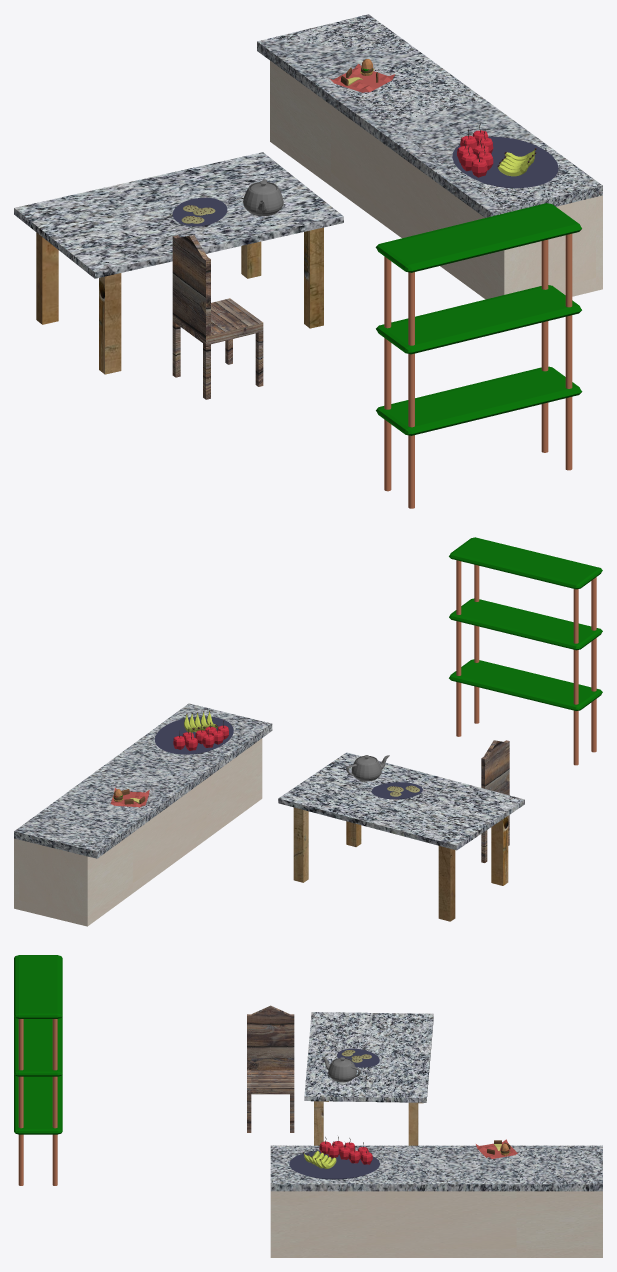
Rendered from Cozinha.fbx.
The picture shows the model from 3 angles, top to bottom: view 1: azimuth 30°, elevation 25°; view 2: azimuth 150°, elevation 25°; view 3: azimuth 270°, elevation 25°; orthographic projection. The views are drawn at different scales.
Parts seen in each view (by area): view 1: Balcao.001, Mesa.001, Cube, Cadeira.001, Bandeija, Maças, Teapot, Lanches, Bandeija.001, Bananas; view 2: Balcao.001, Mesa.001, Cube, Cadeira.001, Bandeija, Maças, Teapot, Lanches, Bandeija.001; view 3: Balcao.001, Mesa.001, Cube, Cadeira.001, Bandeija, Maças, Teapot, Lanches, Bandeija.001.
Part boxes in pixels (x1,y1,x2,y2): Balcao.001: (257,14,602,299); Mesa.001: (14,152,343,374); Cube: (375,203,582,508); Cadeira.001: (172,235,263,399); Bandeija: (452,136,558,188); Maças: (457,124,493,177); Teapot: (243,179,283,216); Lanches: (330,59,395,92); Bandeija.001: (172,197,227,226); Bananas: (497,148,536,176); Balcao.001: (14,703,272,926); Mesa.001: (278,752,524,921); Cube: (449,537,602,765); Cadeira.001: (481,740,509,862); Bandeija: (154,716,233,754); Maças: (173,720,228,750); Teapot: (346,755,389,781); Lanches: (110,788,149,807); Bandeija.001: (371,782,422,799); Balcao.001: (270,1145,602,1257); Mesa.001: (304,1012,433,1145); Cube: (14,955,62,1185); Cadeira.001: (247,1005,294,1132); Bandeija: (289,1150,379,1179); Maças: (319,1136,372,1164); Teapot: (322,1056,360,1082); Lanches: (476,1139,518,1158); Bandeija.001: (337,1048,379,1067).
Size of the model in its own units: 445 by 217 by 668.
